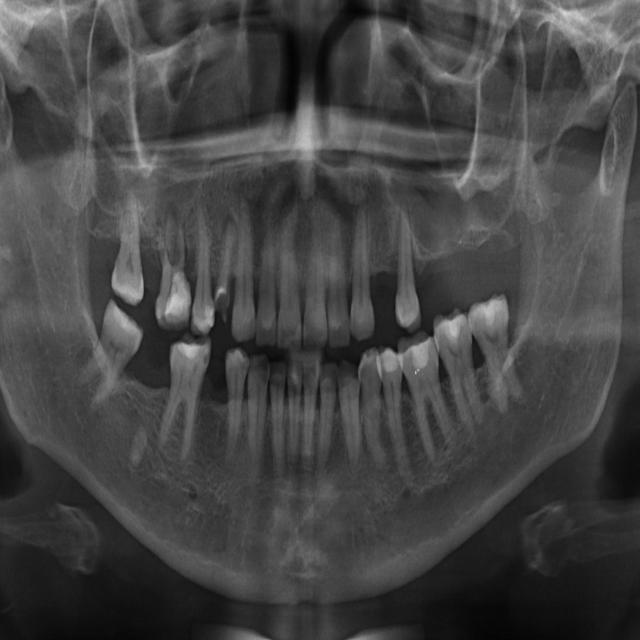3M ESPE Implant: (107, 185, 146, 308)
AGS Medikal Implant: (428, 301, 492, 444)
AMerOss Implant: (392, 326, 466, 467)
Anthogyr Implant: (377, 340, 416, 489)
Bicon Implant: (356, 343, 390, 475)
BioHorizons Implant: (335, 355, 368, 478)
BioLife Implant: (315, 359, 338, 484)
Biomet 3i Implant: (301, 357, 320, 470)
Blue Sky Bio Implant: (288, 359, 303, 470)
Camlog Implant: (267, 358, 287, 482)
Caries: (321, 204, 351, 350)
Composite filling: (243, 351, 270, 483)
Cowellmedi Implant: (224, 346, 249, 472)
DENTSPLY Implant: (173, 260, 173, 261)
Dentatus Implant: (150, 330, 215, 473)
Dentium Implant: (100, 377, 100, 378)
Euroteknika Implant: (190, 190, 220, 336)
Filling: (212, 204, 237, 328)
Frontier Implant: (230, 180, 261, 344)
Hiossen Implant: (342, 194, 377, 345)
Implant: (277, 201, 303, 352)
Implant Direct: (254, 202, 278, 348)
Keystone Dental Implant: (303, 204, 327, 350)
Mandible: (386, 193, 422, 332)
Neoss Implant: (466, 287, 532, 424)
